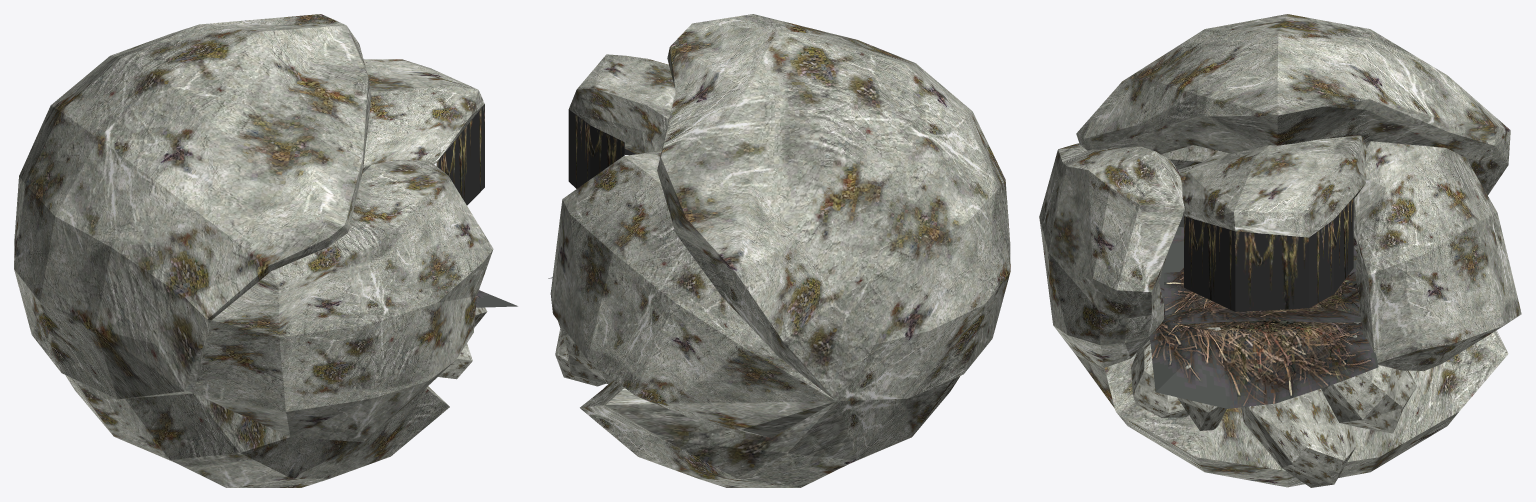
Rendered from poi_all_lair_rock_shelter_small_l0.fbx.
3 renders of one model, left to right at view 1: azimuth 30°, elevation 25°; view 2: azimuth 150°, elevation 25°; view 3: azimuth 270°, elevation 25°, orthographic. The views are drawn at different scales.
Parts seen in each view (by area): view 1: mesh_node; view 2: mesh_node; view 3: mesh_node.
Part boxes in pixels (bbox=[...]): mesh_node: bbox=[14, 14, 517, 487]; mesh_node: bbox=[548, 14, 1010, 487]; mesh_node: bbox=[1039, 14, 1521, 487].
Bounding box in the file's own units: 1.94 × 1.98 × 2.01.
